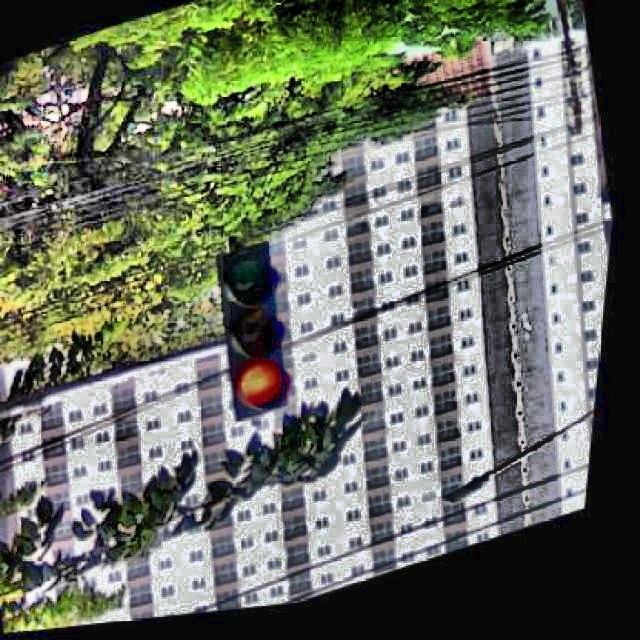red: (215, 245, 302, 409)
